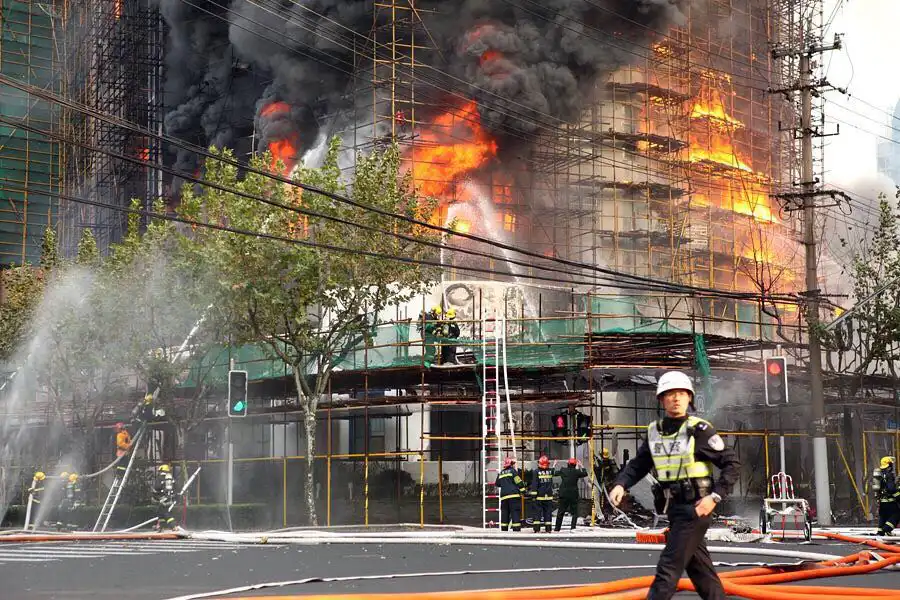fire: (85, 3, 849, 325)
